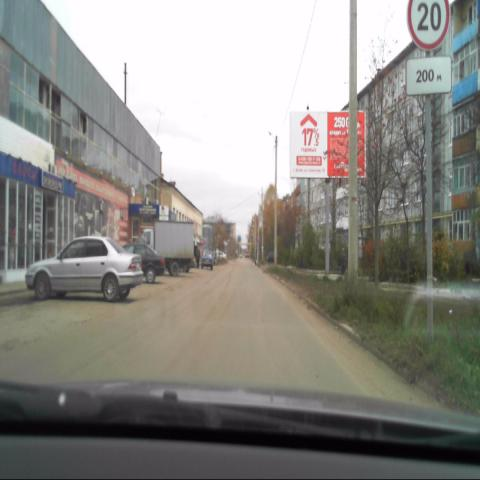8_1_1: (406, 59, 452, 96)
